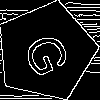G: (21, 26, 81, 81)
